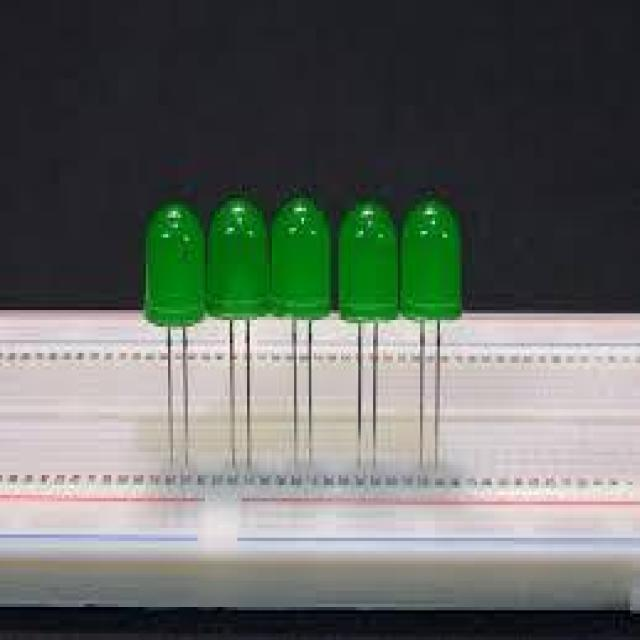Led: (400, 190, 463, 471), (206, 192, 269, 470), (271, 190, 331, 465), (145, 200, 205, 470), (339, 197, 397, 468)
